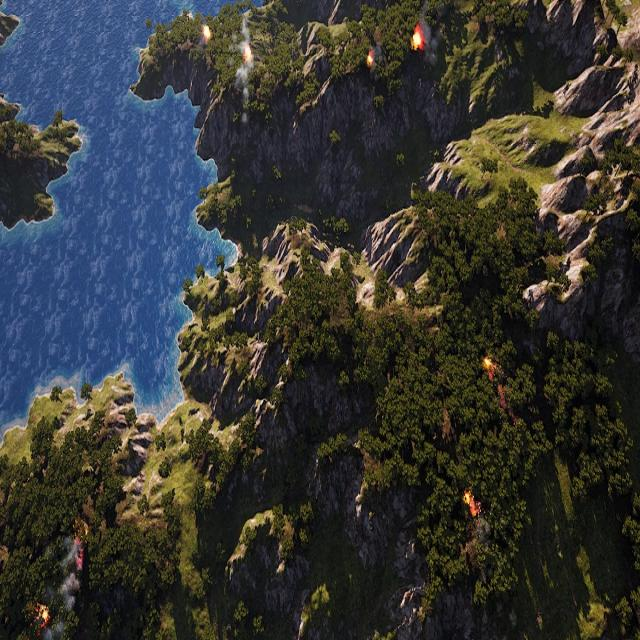fire: (465, 490, 483, 517), (484, 356, 497, 380), (35, 607, 49, 629), (412, 27, 424, 49), (75, 519, 88, 539), (203, 26, 212, 41), (245, 45, 253, 60), (366, 54, 372, 66)
smoke: (51, 534, 83, 608), (232, 17, 253, 125), (419, 0, 443, 64), (370, 40, 386, 76), (37, 621, 64, 640)
